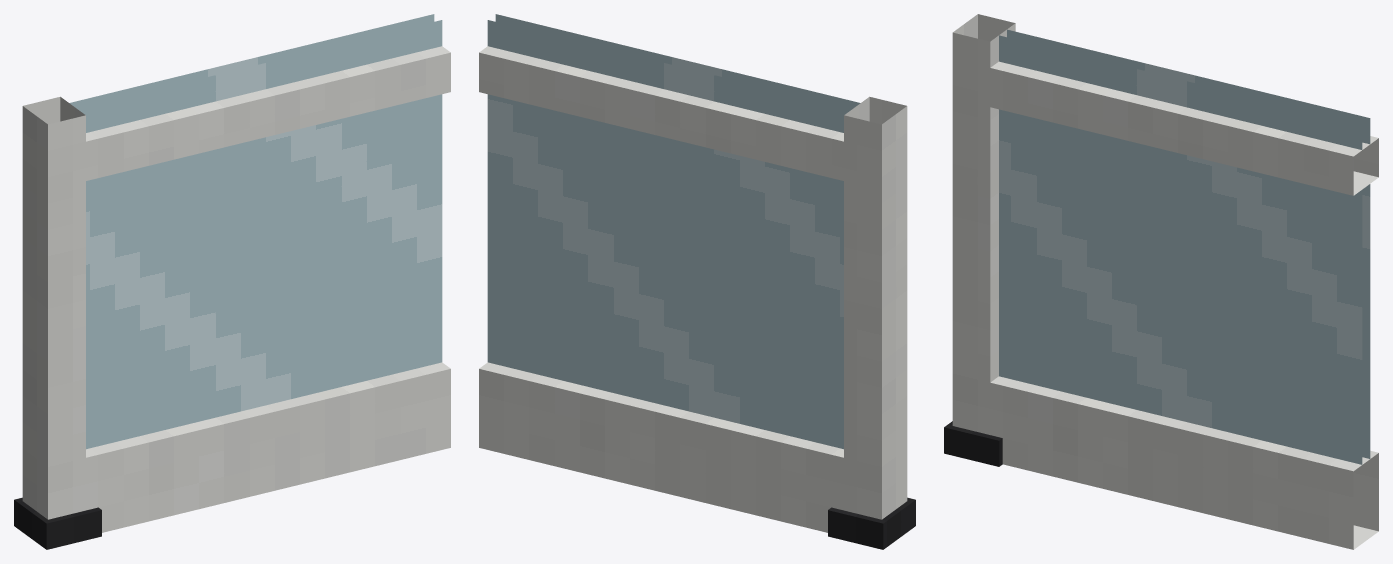
Rendered from auto_door_wide_slider_white_c0_lower_left_open.obj.
3 views of the same model, side by side, from view 1: azimuth 30°, elevation 25°; view 2: azimuth 150°, elevation 25°; view 3: azimuth 330°, elevation 25° (orthographic).
Visible parts, largest first — view 1: auto_door_wide_slider_white_c0_lower_left_open; view 2: auto_door_wide_slider_white_c0_lower_left_open; view 3: auto_door_wide_slider_white_c0_lower_left_open.
Part boxes in pixels (<box>): auto_door_wide_slider_white_c0_lower_left_open: <box>14,14,450,549</box>; auto_door_wide_slider_white_c0_lower_left_open: <box>479,14,915,549</box>; auto_door_wide_slider_white_c0_lower_left_open: <box>944,14,1378,549</box>.
Bounding box in the file's own units: 1.01 × 1 × 0.1406.
